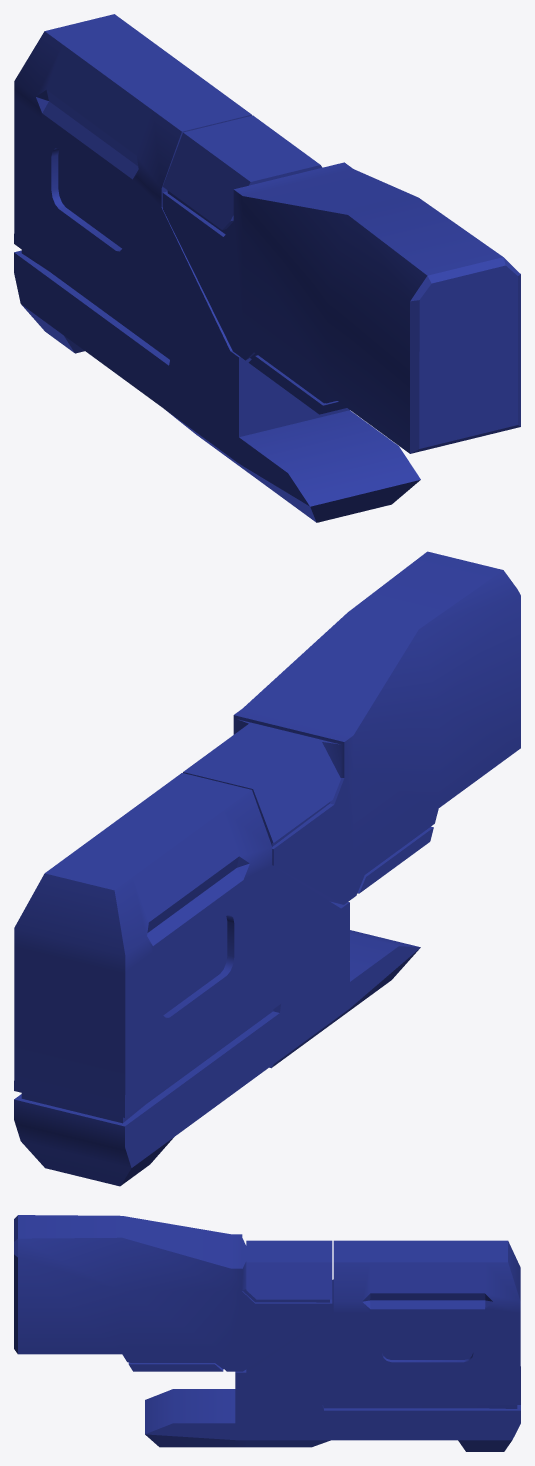
Rendered from part_stock_01.fbx.
The picture shows the model from 3 angles, top to bottom: view 1: azimuth 30°, elevation 25°; view 2: azimuth 150°, elevation 25°; view 3: azimuth 270°, elevation 25°; orthographic projection. The views are drawn at different scales.
Visible parts, largest first — view 1: part_stock_01; view 2: part_stock_01; view 3: part_stock_01.
Part boxes in pixels (left/top/right/bottom): part_stock_01: left=14, top=14, right=520, bottom=522; part_stock_01: left=14, top=551, right=520, bottom=1186; part_stock_01: left=14, top=1215, right=520, bottom=1451.
Size of the model in its own units: 6 by 17.39 by 37.43.
